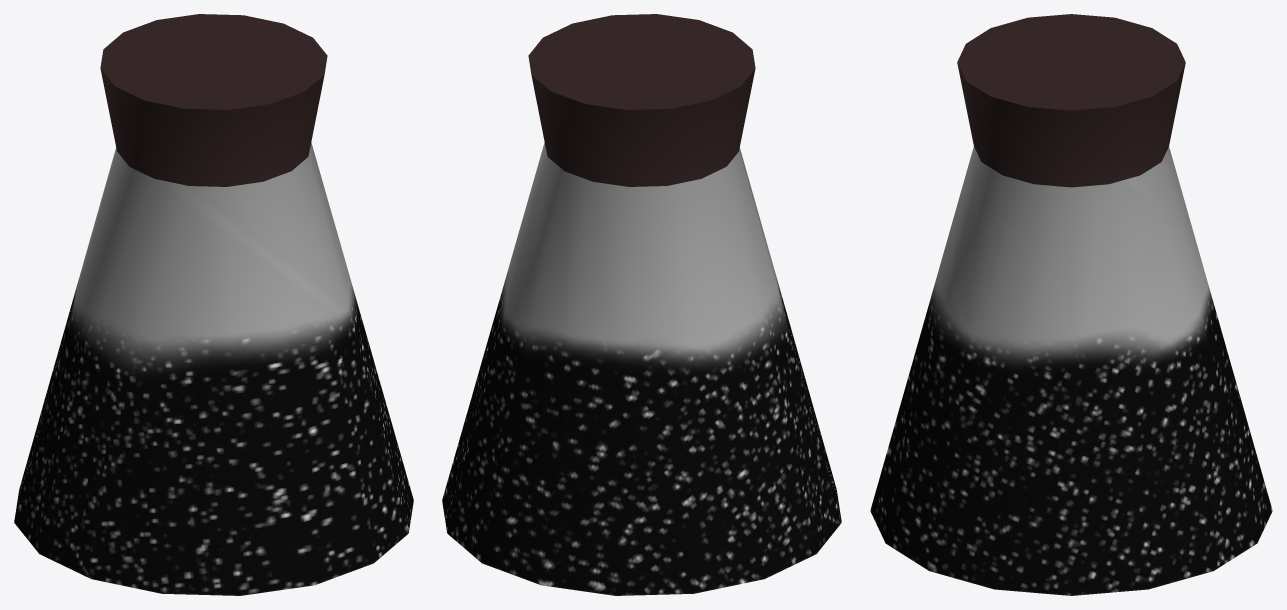
The model's file is blackpepper.fbx.
3 views of the same model, side by side, from view 1: azimuth 30°, elevation 25°; view 2: azimuth 150°, elevation 25°; view 3: azimuth 270°, elevation 25° (orthographic).
Parts seen in each view (by area): view 1: Cylinder.002; view 2: Cylinder.002; view 3: Cylinder.002.
Part boxes in pixels (x1=…): Cylinder.002: x1=14, y1=14, x2=413, y2=595; Cylinder.002: x1=442, y1=14, x2=841, y2=595; Cylinder.002: x1=870, y1=14, x2=1272, y2=595.
Bounding box in the file's own units: 19.89 × 24.47 × 19.89.
